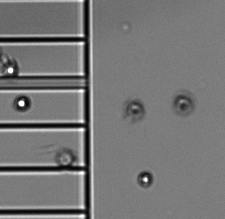Dead Cell: (173, 94, 193, 114), (56, 149, 75, 167), (126, 100, 144, 119)
Living Cell: (14, 94, 31, 112), (137, 171, 154, 188), (4, 61, 18, 77)
